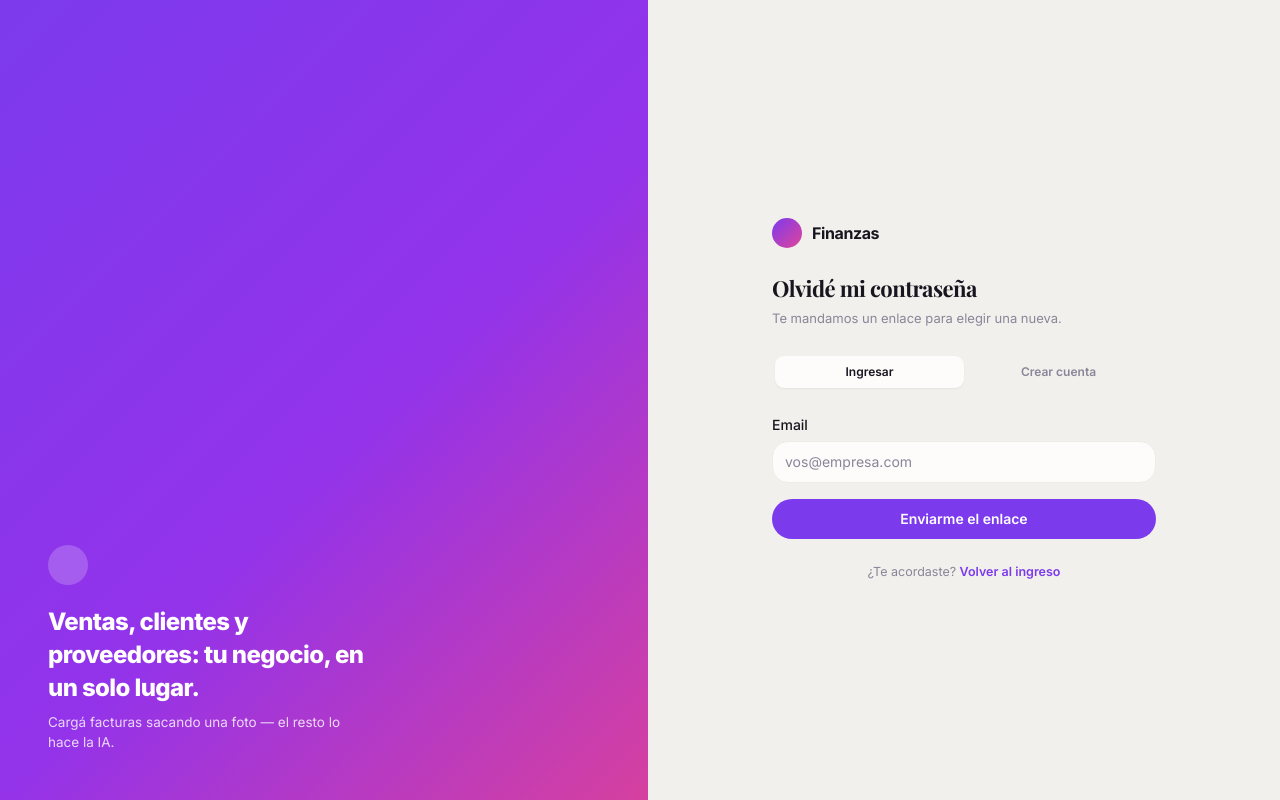
it: RecuperarPage — no delata quién tiene cuenta › un email mal formado no llega a enviarse
The width and height of the screenshot is (1280, 800).
Type "esto-no-es-un-email" into the field labelled "Email" at (964, 462), box [772, 441, 1156, 483]
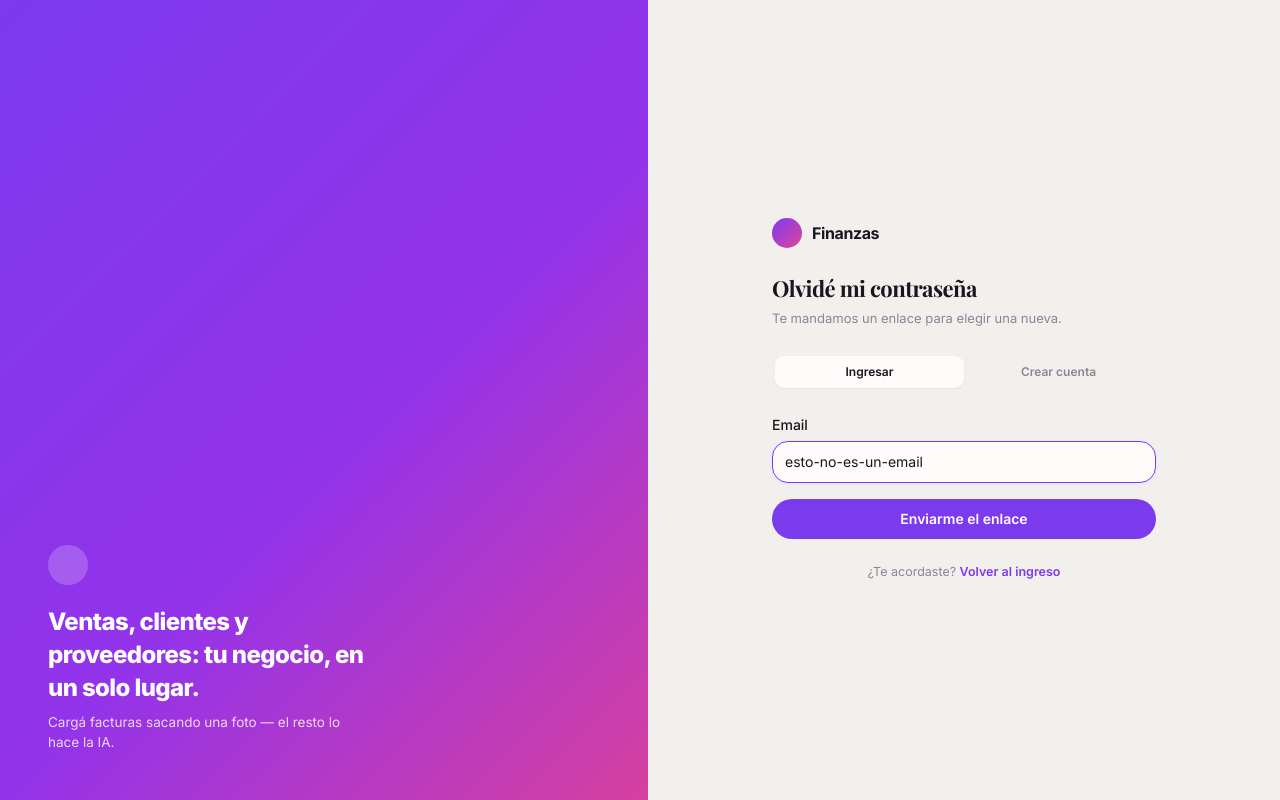
Click the button "Enviarme el enlace" at (964, 519), box [772, 499, 1156, 539]
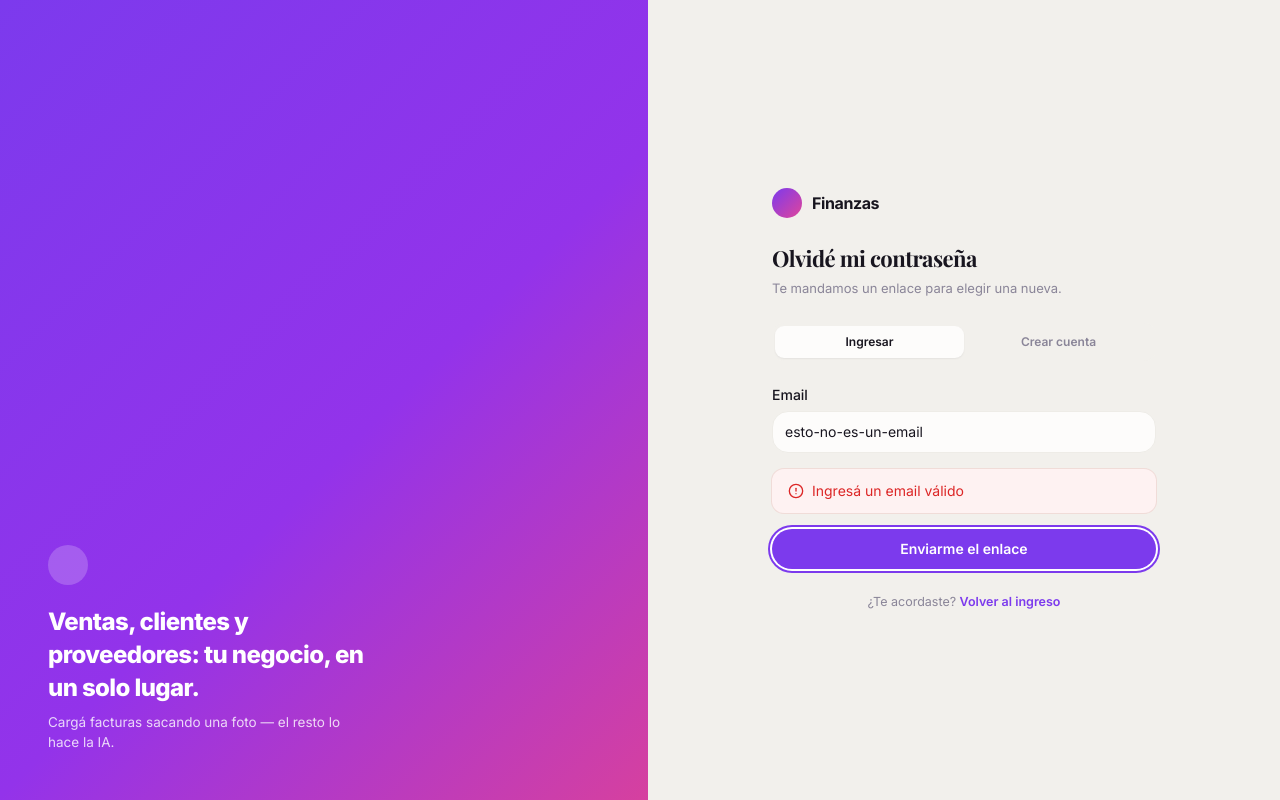
Check: the message shows "email válido", box [812, 482, 964, 499]
